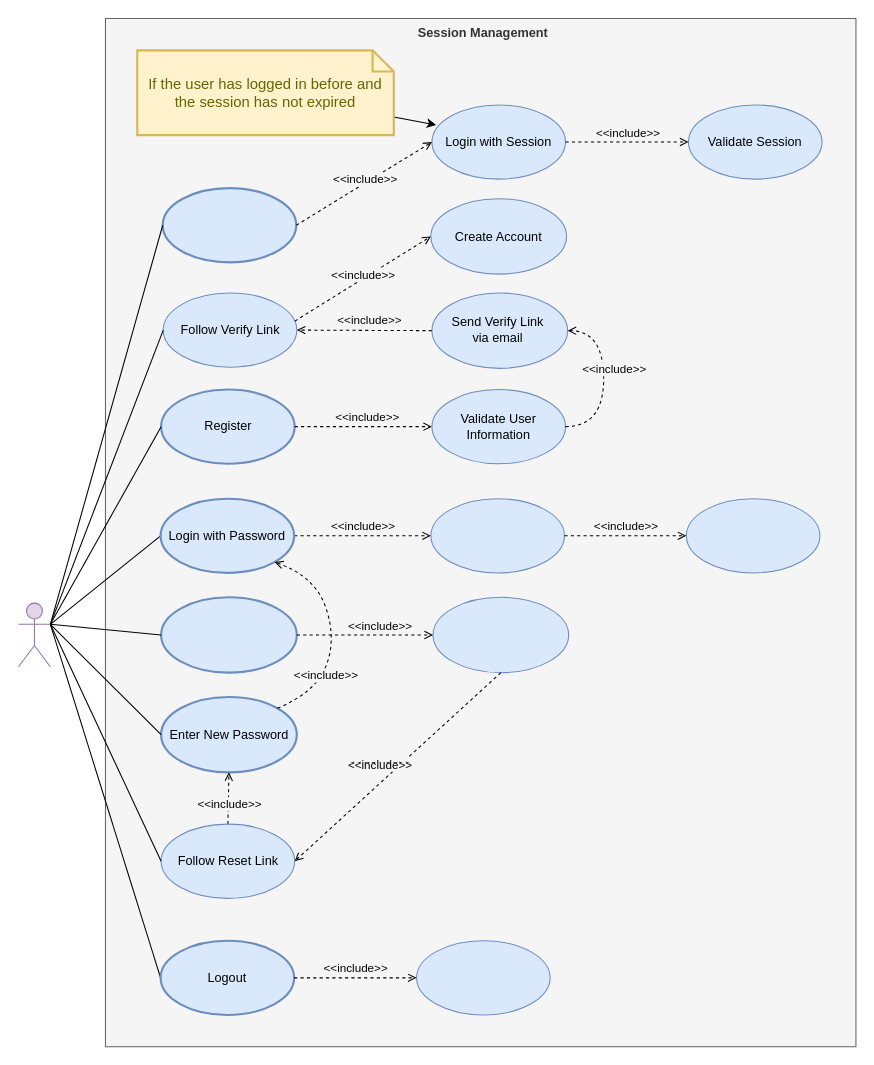
This 874x1065 diagram has some shape labels left out. Each missing label, with the box of its shape:
Authenticate User Account: (430, 498, 564, 573)
Create Session: (685, 498, 820, 573)
Destroy Session: (416, 940, 550, 1015)
Open Web-app: (161, 187, 297, 263)
Reset Password: (160, 596, 297, 673)
Send Reset Link via email: (432, 596, 569, 673)
User: (17, 602, 50, 667)
